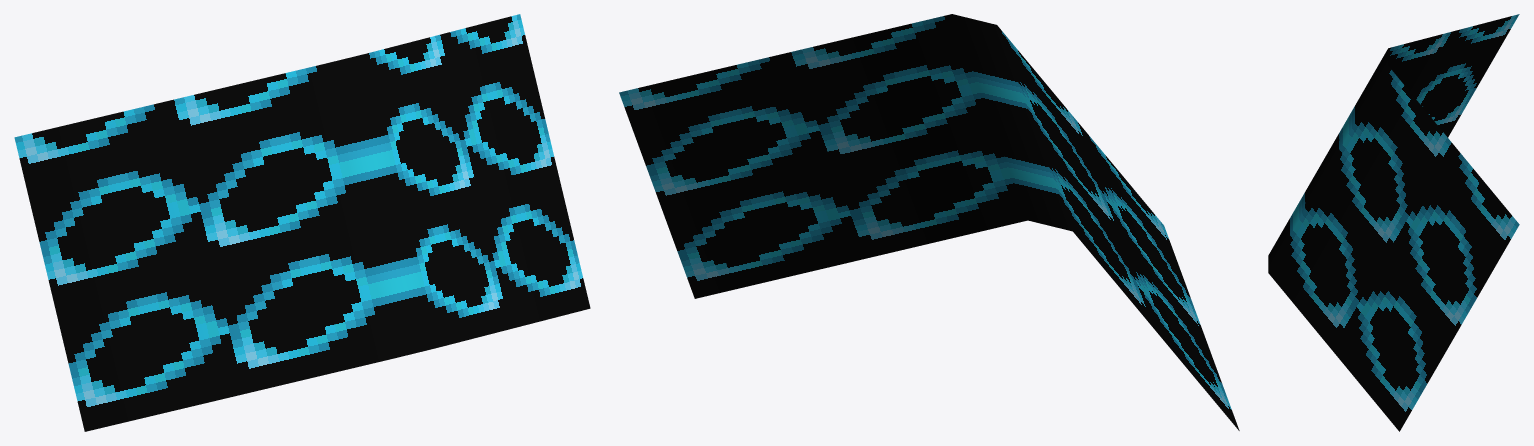
Rendered from 5780head102_c.gltf.
3 renders of one model, left to right at view 1: azimuth 30°, elevation 25°; view 2: azimuth 150°, elevation 25°; view 3: azimuth 270°, elevation 25°, orthographic. The views are drawn at different scales.
Parts seen in each view (by area): view 1: 5780head102_c; view 2: 5780head102_c; view 3: 5780head102_c.
Part boxes in pixels (x1,y1,x2,y2): 5780head102_c: [14, 14, 590, 431]; 5780head102_c: [619, 14, 1239, 430]; 5780head102_c: [1268, 14, 1519, 431].
Bounding box in the file's own units: 0.6523 × 0.3896 × 0.3291.
Materials: 1 (1 with a texture image).
